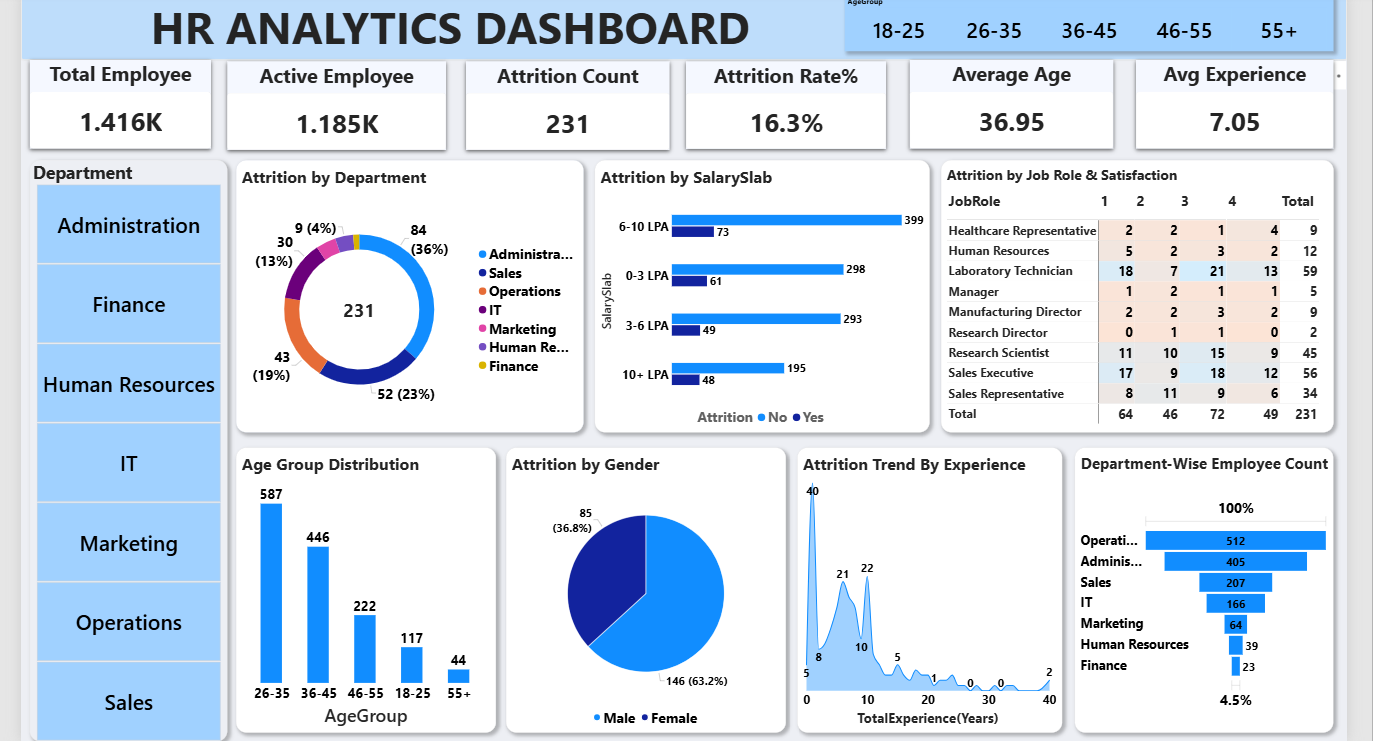

The dashboard page shown, as its layout file describes it:
{"tool":"powerbi","page":{"name":"Page 1","canvas":[3840,2160],"ordinal":0},"visuals":[{"type":"textbox","box":[0,3.6,3840.1,184.6],"z":0},{"type":"cardVisual","title":"Total Employee","fields":{"Data":["CountNonNull(HR_Analytics-4.EmpID)"]},"box":[25.3,188.2,524.8,257],"z":1000},{"type":"cardVisual","title":"Avg Experience","fields":{"Data":["Avg(HR_Analytics-4.YearsatCompany)"]},"box":[3228.4,188.2,571.9,257],"z":2000},{"type":"cardVisual","title":"Average Age","fields":{"Data":["Avg(HR_Analytics-4.Age)"]},"box":[2573.3,188.2,589.9,257],"z":3000},{"type":"cardVisual","title":"Attrition Rate%","fields":{"Data":["HR_Analytics-4.Attrition Rate %"]},"box":[1925.5,191.8,579.1,253.4],"z":4000},{"type":"cardVisual","title":"Attrition Count","fields":{"Data":["Sum(HR_Analytics-4.Attrition Count)"]},"box":[1288.5,191.8,589.9,257],"z":5000},{"type":"cardVisual","title":"Active Employee","fields":{"Data":["CountNonNull(HR_Analytics-4.EmployeeCount)"]},"box":[597.2,191.8,633.4,257],"z":6000},{"type":"donutChart","title":"Attrition by Department","fields":{"Category":["HR_Analytics-4.Department"],"Y":["Sum(HR_Analytics-4.Attrition Count)"]},"box":[622.5,477.8,1006.2,789],"z":7000},{"type":"clusteredBarChart","title":"Attrition by SalarySlab","fields":{"Category":["HR_Analytics-4.SalarySlab"],"Y":["CountNonNull(HR_Analytics-4.EmpID)"],"Series":["HR_Analytics-4.Attrition"]},"box":[1661.3,477.8,970,789],"z":8000},{"type":"pivotTable","title":"Attrition by Job Role & Satisfaction","fields":{"Rows":["HR_Analytics-4.JobRole"],"Values":["Sum(HR_Analytics-4.Attrition Count)"],"Columns":["HR_Analytics-4.JobSatisfaction"]},"box":[2663.8,477.8,1136.5,789],"z":9000},{"type":"columnChart","title":" Age Group Distribution","fields":{"Y":["Sum(HR_Analytics-4.EmployeeCount)"],"Category":["HR_Analytics-4.AgeGroup"]},"box":[622.5,1310.2,752.8,825.2],"z":10000},{"type":"pieChart","title":"Attrition by Gender","fields":{"Category":["HR_Analytics-4.Gender"],"Y":["Sum(HR_Analytics-4.Attrition Count)"]},"box":[1404.3,1310.2,810.7,825.2],"z":11000},{"type":"areaChart","title":"Attrition Trend By Experience","fields":{"Y2":["Sum(HR_Analytics-4.Attrition Count)"],"Category":["HR_Analytics-4.TotalExperience(Years)"]},"box":[2247.6,1310.2,767.3,825.2],"z":12000},{"type":"funnel","title":"Department-Wise Employee Count","fields":{"Category":["HR_Analytics-4.Department"],"Y":["CountNonNull(HR_Analytics-4.EmpID)"]},"box":[3051.1,1310.2,749.2,825.2],"z":13000},{"type":"slicer","fields":{"Values":["HR_Analytics-4.Department"]},"box":[25.3,477.8,571.9,1683],"z":14000},{"type":"slicer","fields":{"Values":["HR_Analytics-4.AgeGroup"]},"box":[2385.1,3.6,1415.2,159.3],"z":14001}]}

Visuals, with their boxes on the page's 3840x2160 design canvas (x1, y1, x2, y2). These are canvas units, not pixel positions in the 1375x741 screenshot, which may show the page scaled, cropped or inside an application window:
textbox: 0/4/3840/188
"Total Employee" cardVisual: 25/188/550/445
"Avg Experience" cardVisual: 3228/188/3800/445
"Average Age" cardVisual: 2573/188/3163/445
"Attrition Rate%" cardVisual: 1926/192/2505/445
"Attrition Count" cardVisual: 1288/192/1878/449
"Active Employee" cardVisual: 597/192/1231/449
"Attrition by Department" donutChart: 622/478/1629/1267
"Attrition by SalarySlab" clusteredBarChart: 1661/478/2631/1267
"Attrition by Job Role & Satisfaction" pivotTable: 2664/478/3800/1267
" Age Group Distribution" columnChart: 622/1310/1375/2135
"Attrition by Gender" pieChart: 1404/1310/2215/2135
"Attrition Trend By Experience" areaChart: 2248/1310/3015/2135
"Department-Wise Employee Count" funnel: 3051/1310/3800/2135
slicer - HR_Analytics-4.Department: 25/478/597/2161
slicer - HR_Analytics-4.AgeGroup: 2385/4/3800/163
